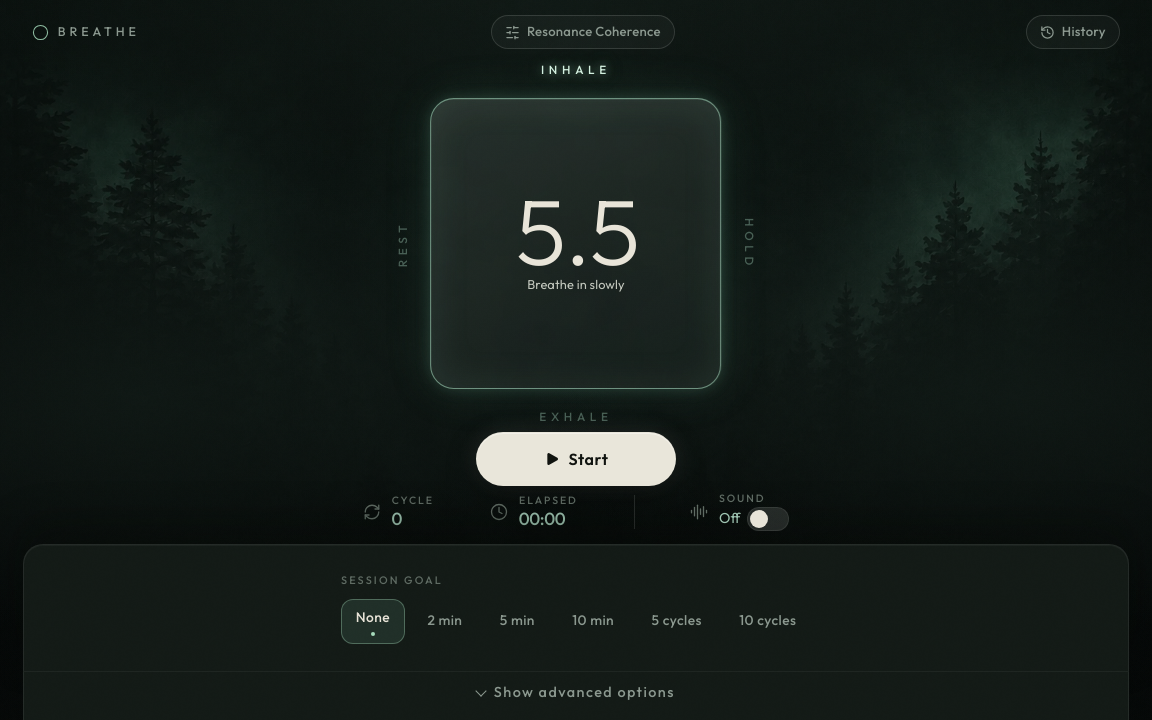
BreatheApp › keeps the cycle denominator on the goal the running session is using, not one picked mid-session
Click the button "Start".
click(576, 459)  # box [476, 432, 676, 486]
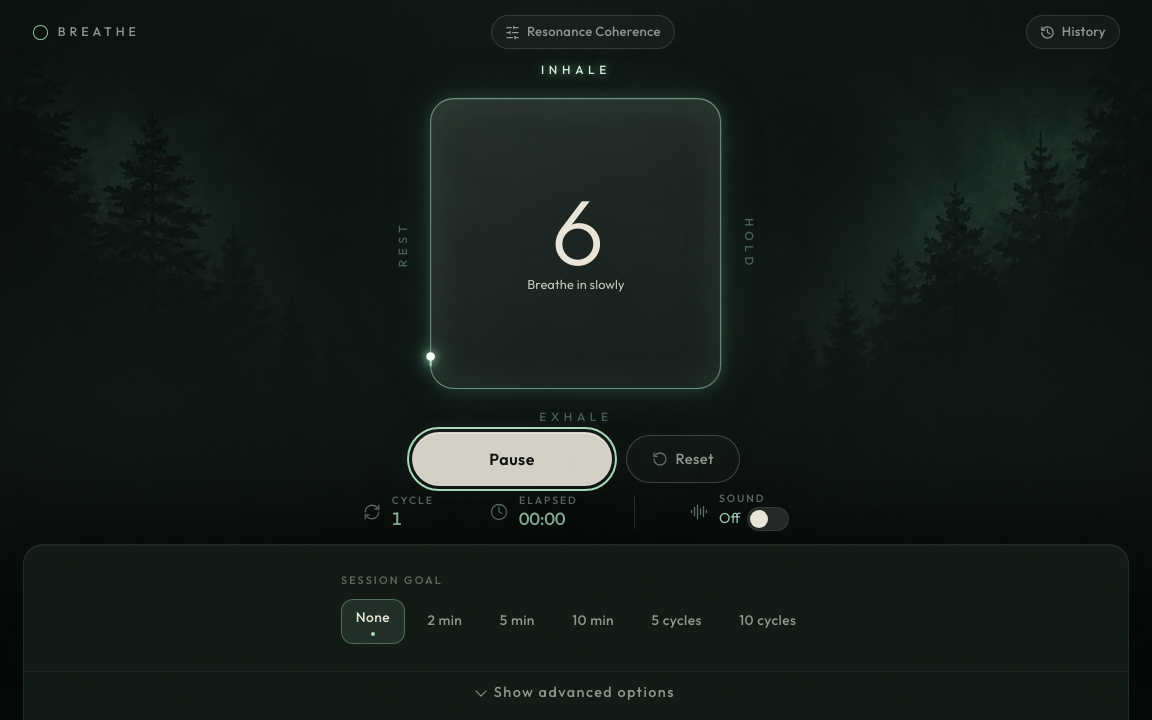
Expected: the text "1" is shown, [392, 507, 402, 530]
Click the button "Resonance Coherence".
click(583, 32)  # box [491, 15, 675, 49]
(page scrolled)
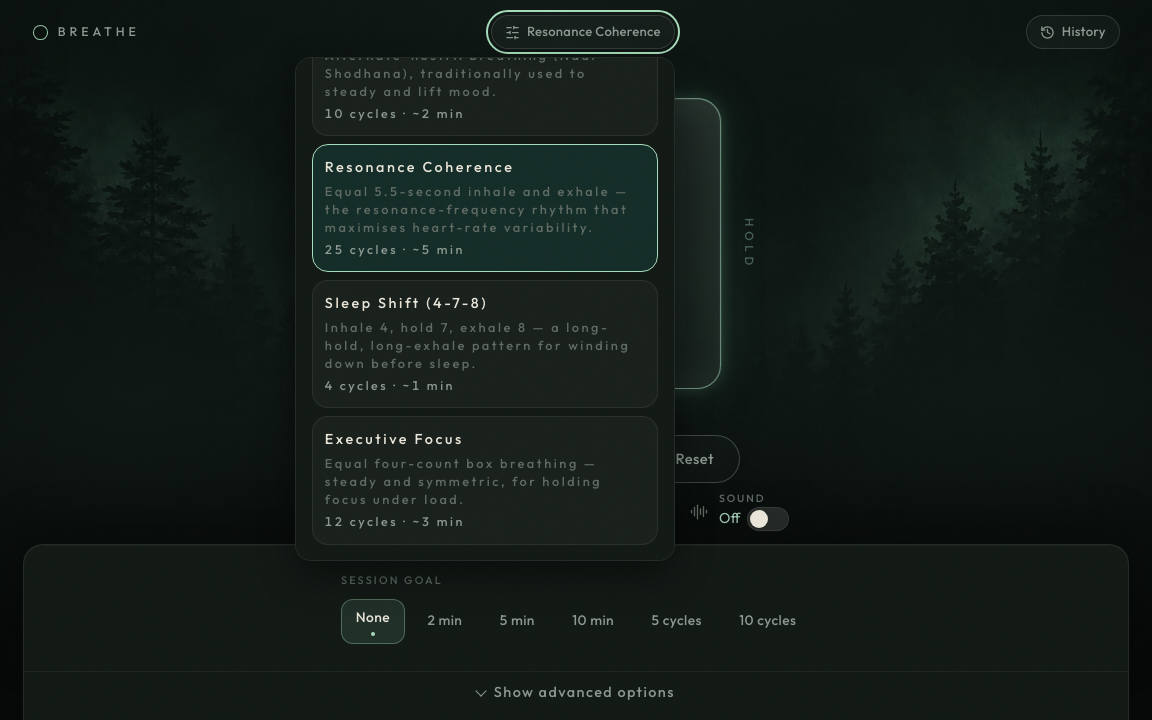
Click the button "Executive Focus".
click(485, 480)  # box [312, 416, 658, 544]
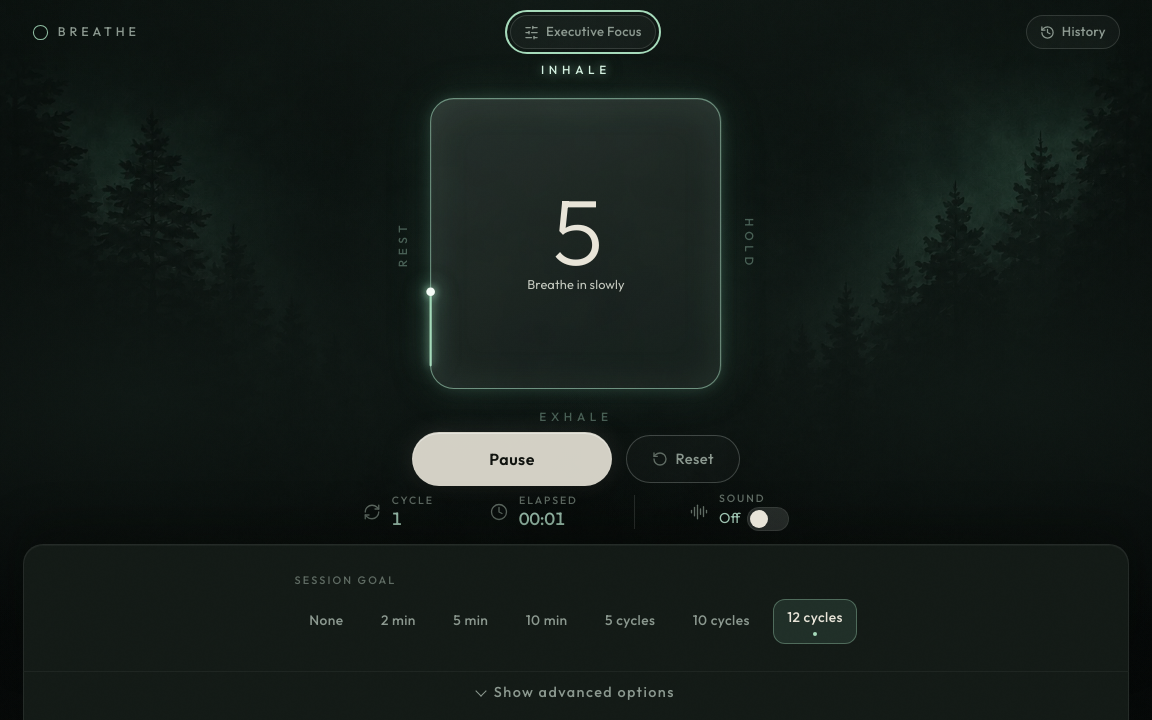
Expected: the text "1 / 12" is not shown
Expected: the text "1" is shown, [392, 507, 402, 530]
Note: It does take effect on the next session.
Click the button "Reset".
click(683, 459)  # box [626, 435, 740, 483]
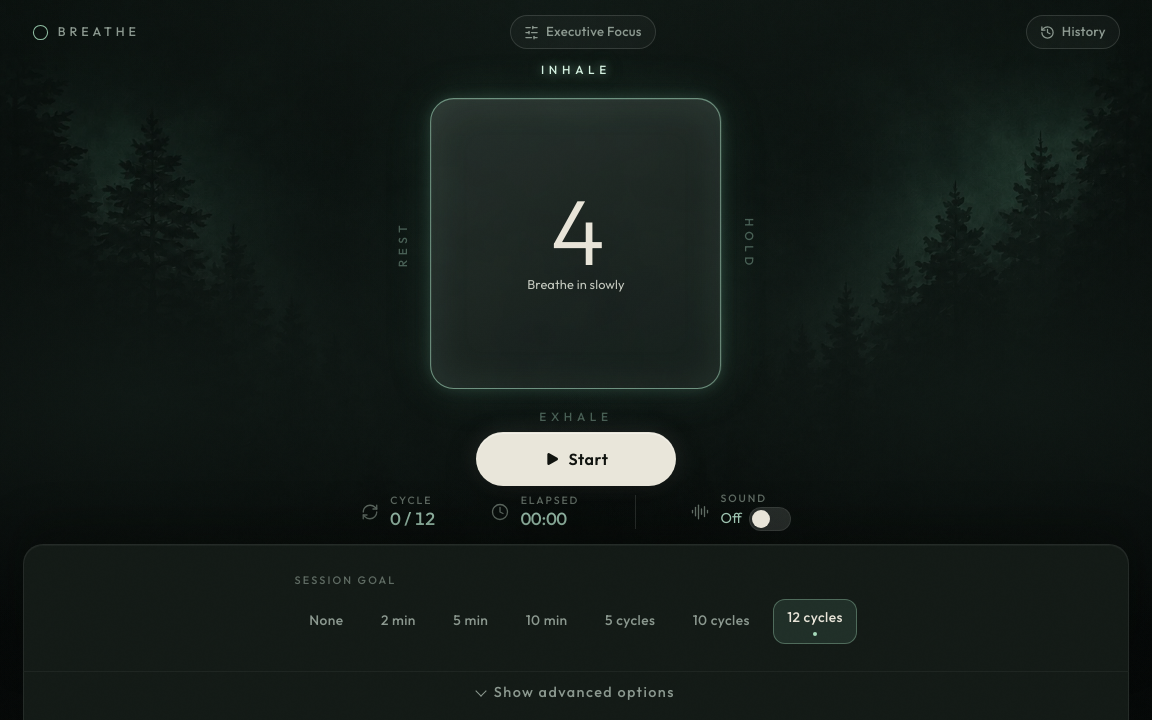
Click the button "Start".
click(576, 459)  # box [476, 432, 676, 486]
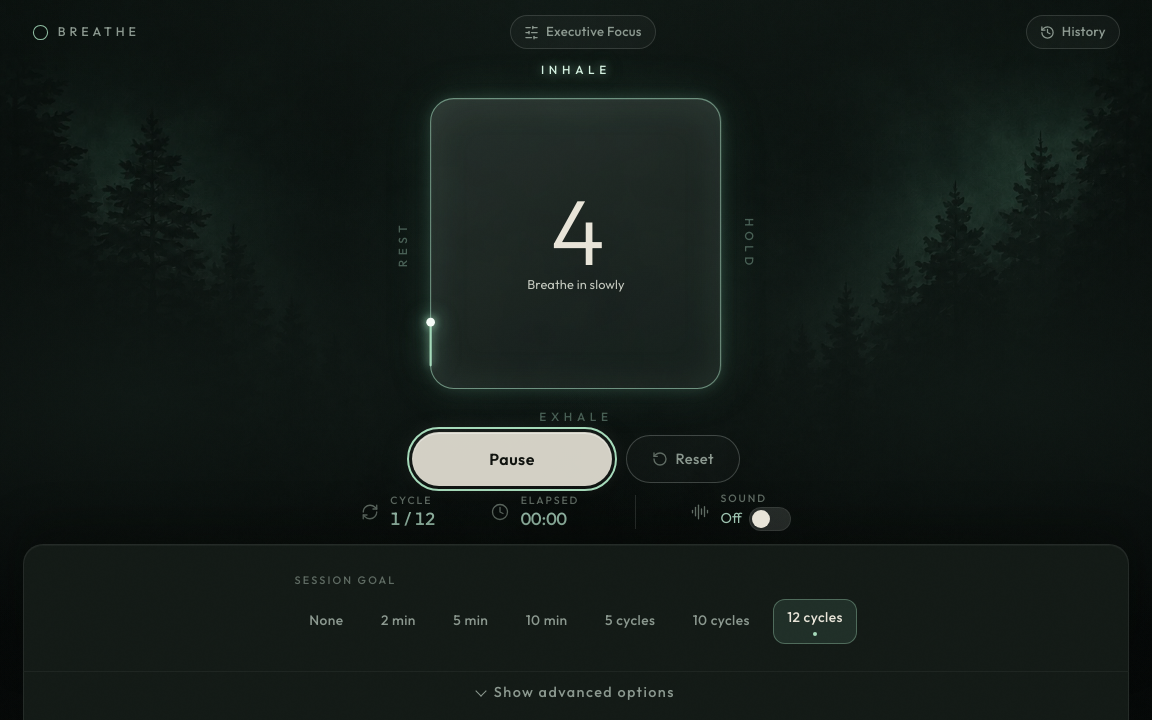
Expected: the text "1 / 12" is shown, [390, 509, 435, 529]
